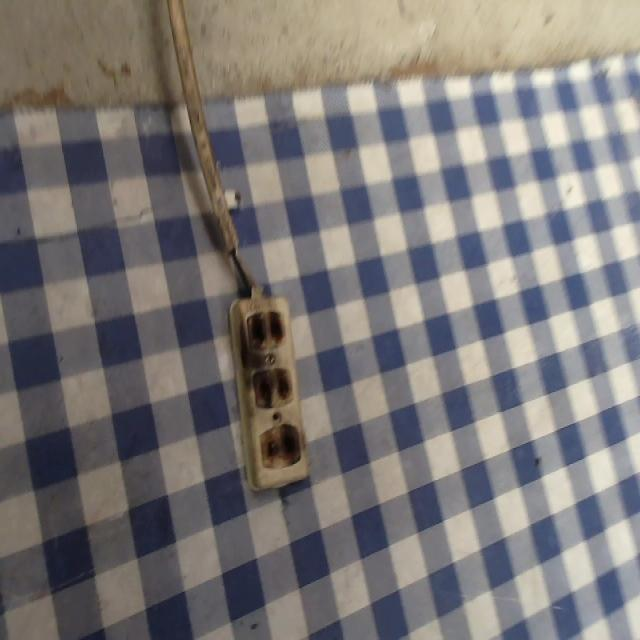-: (257, 424, 303, 468), (251, 366, 295, 406), (243, 308, 285, 348)
